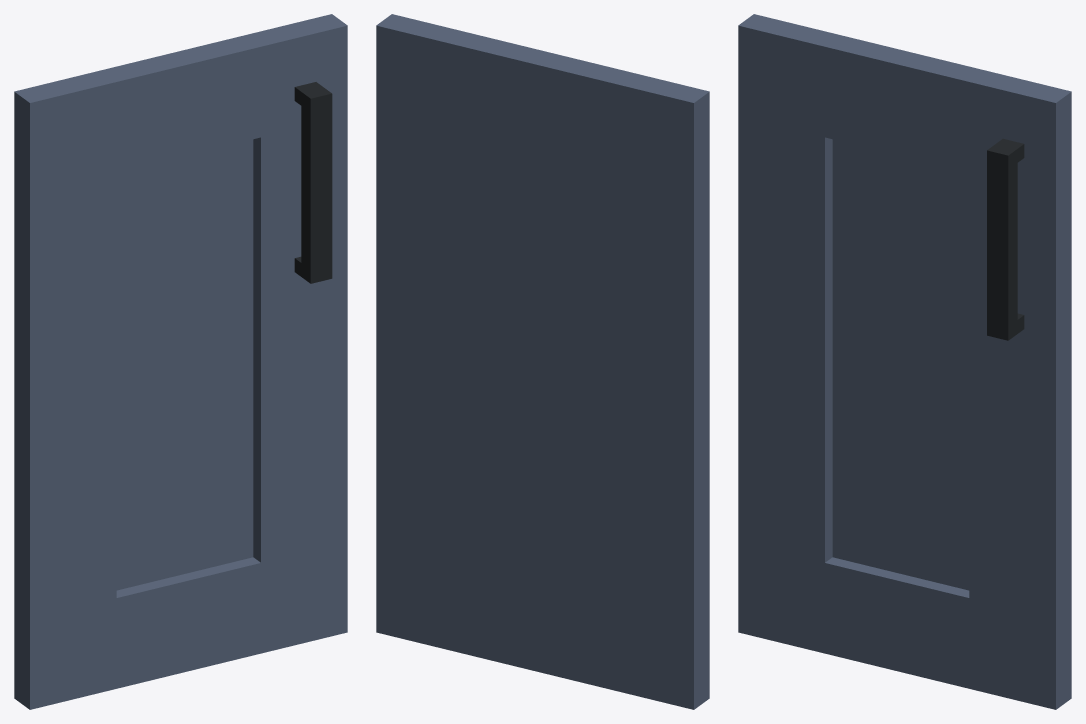
Rendered from Door2_C4_10.fbx.
3 views of the same model, side by side, from view 1: azimuth 30°, elevation 25°; view 2: azimuth 150°, elevation 25°; view 3: azimuth 330°, elevation 25° (orthographic).
Parts seen in each view (by area): view 1: Door2_C4_10; view 2: Door2_C4_10; view 3: Door2_C4_10.
Boxes of the visible parts, x1,y1,x2,y2 form: Door2_C4_10: [14, 14, 347, 709]; Door2_C4_10: [376, 14, 709, 709]; Door2_C4_10: [738, 14, 1071, 709].
Bounding box in the file's own units: 29 × 52.92 × 5.03.
